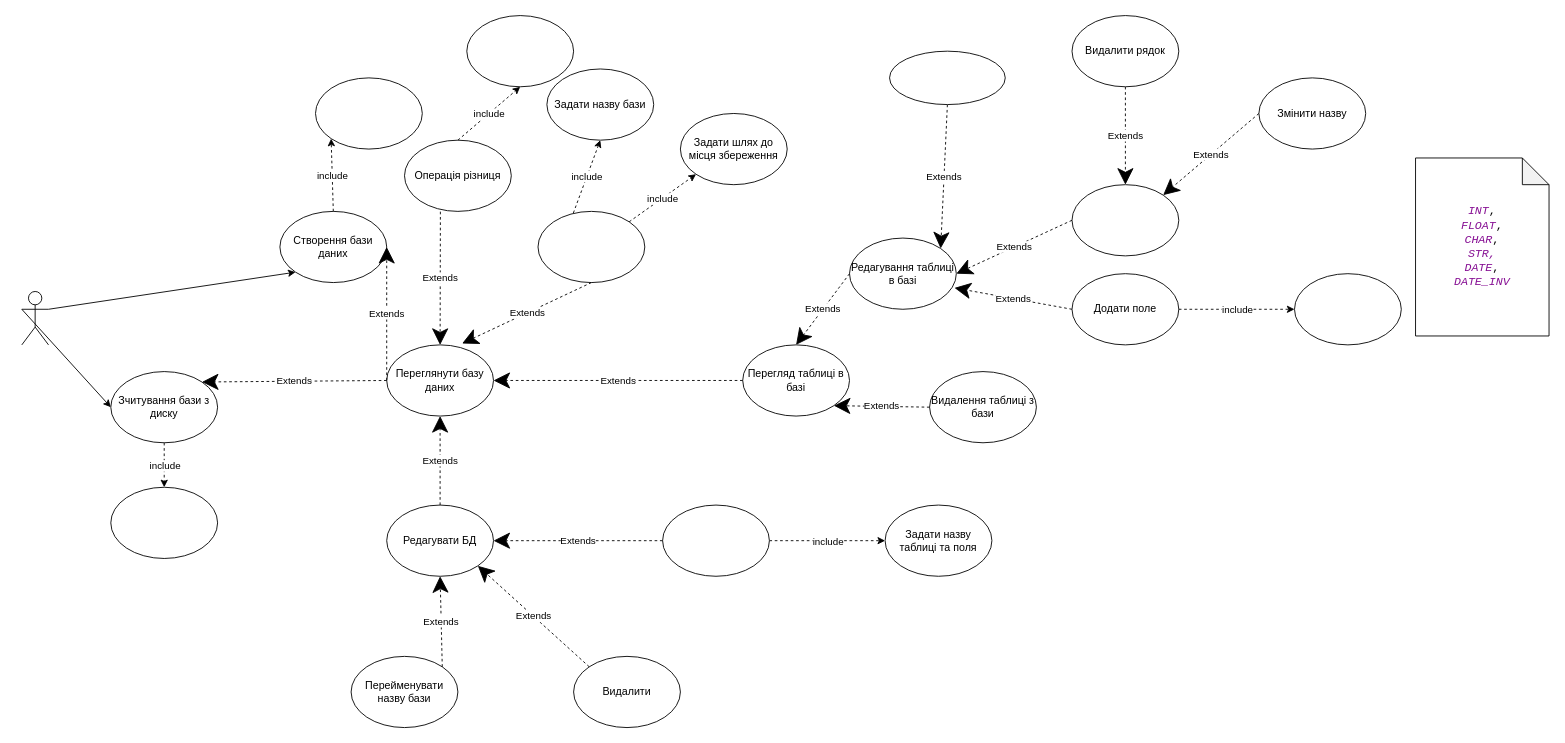
Some shapes in this 1565 by 743 pixel diagram are drawn without their labels. Here are the shapes that lost their labels. From the top down, the centre of each, then its label:
At point 520,51: "Обрати таблиці для різниця".
At point 947,77: "Додати рядок".
At point 368,113: "Задати назву".
At point 1125,220: "Редагувати рядок".
At point 591,246: "Збереження бази на диск".
At point 35,318: "Actor".
At point 1347,309: "Задати тип".
At point 164,522: "Задати шлях до бази".
At point 715,540: "Додати таблицб".
